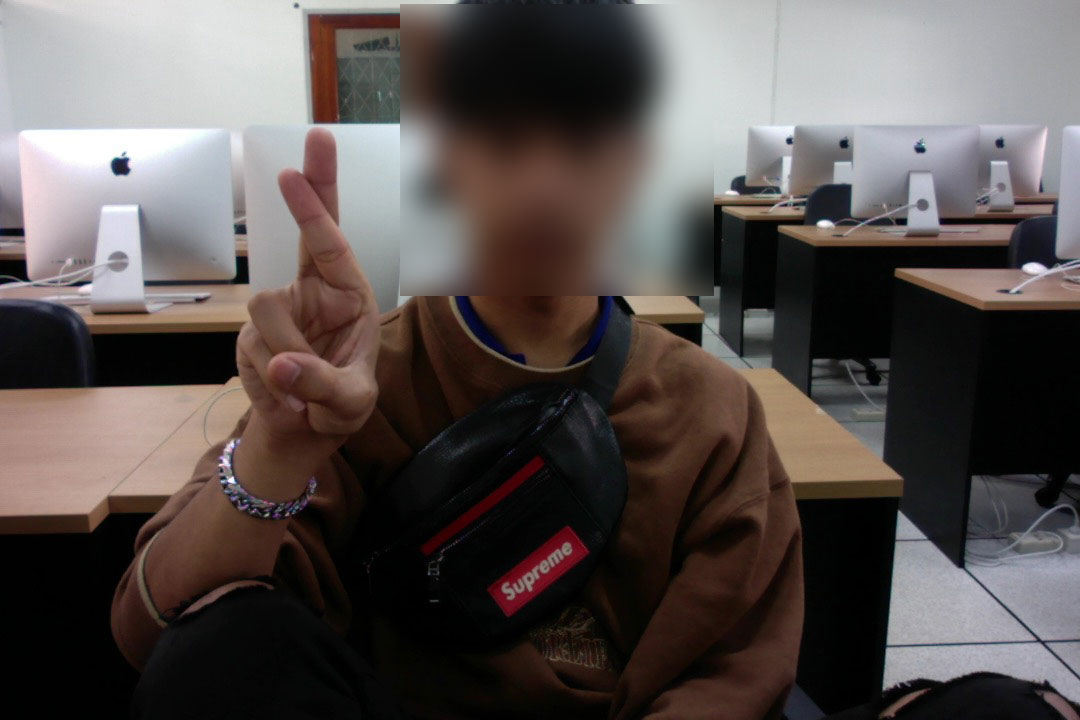rao: (219, 128, 390, 450)
